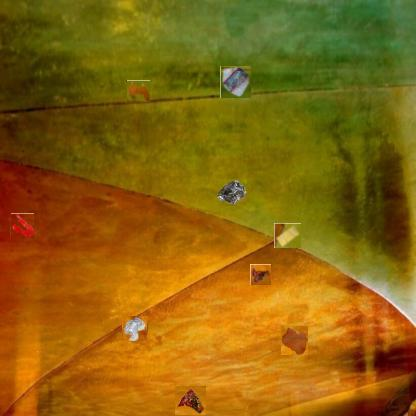dirty: (220, 66, 251, 98), (174, 385, 206, 415), (215, 180, 247, 208), (122, 315, 148, 341), (274, 223, 301, 248), (126, 80, 150, 103), (250, 264, 271, 285)
liquid: (280, 326, 308, 356), (10, 213, 34, 238)
